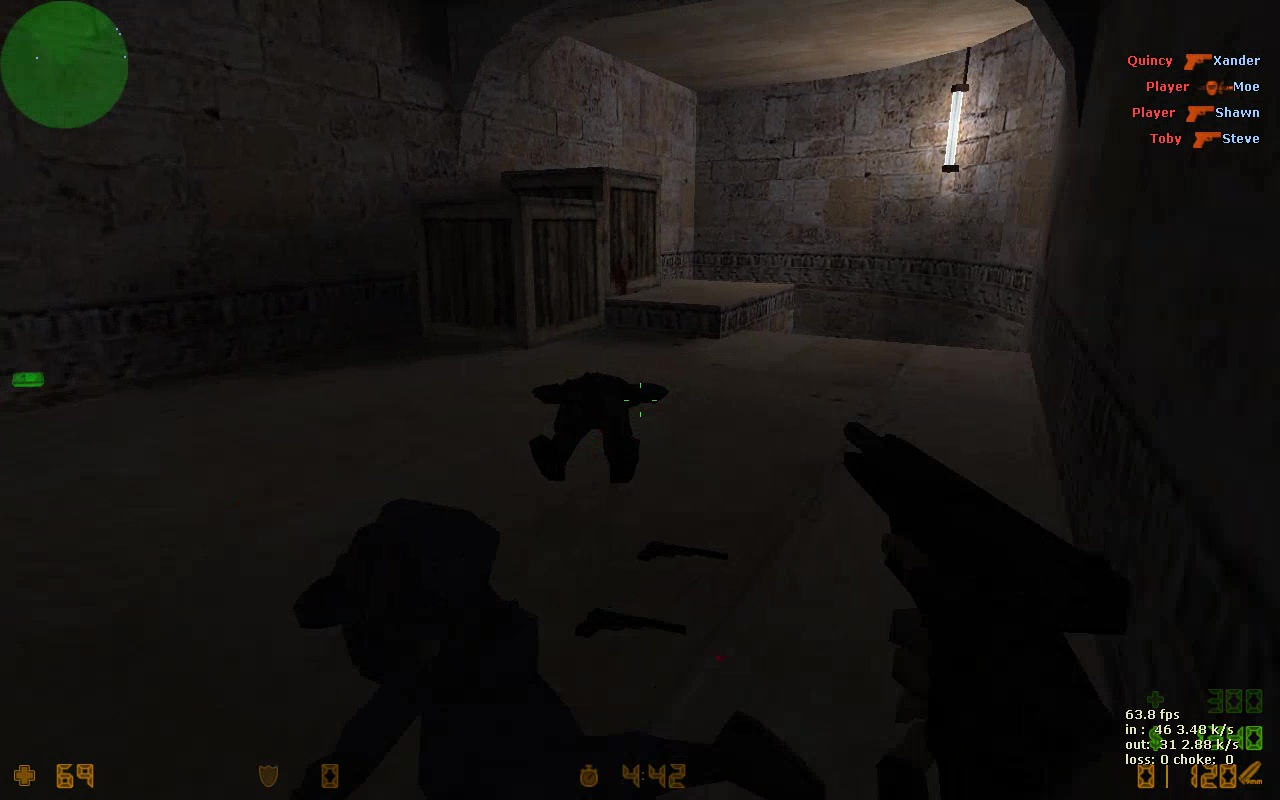dead: (301, 495, 828, 800), (531, 370, 668, 484)
